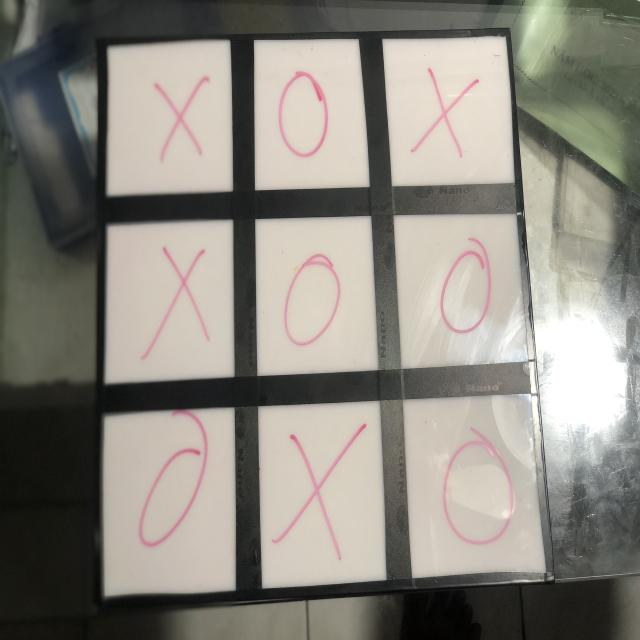o: (125, 441, 207, 549), (439, 437, 515, 547), (437, 232, 493, 335), (283, 256, 342, 347), (275, 74, 331, 160)
table: (52, 6, 554, 611)
x: (279, 431, 356, 561), (150, 241, 210, 356), (410, 68, 474, 158), (153, 77, 210, 171)
